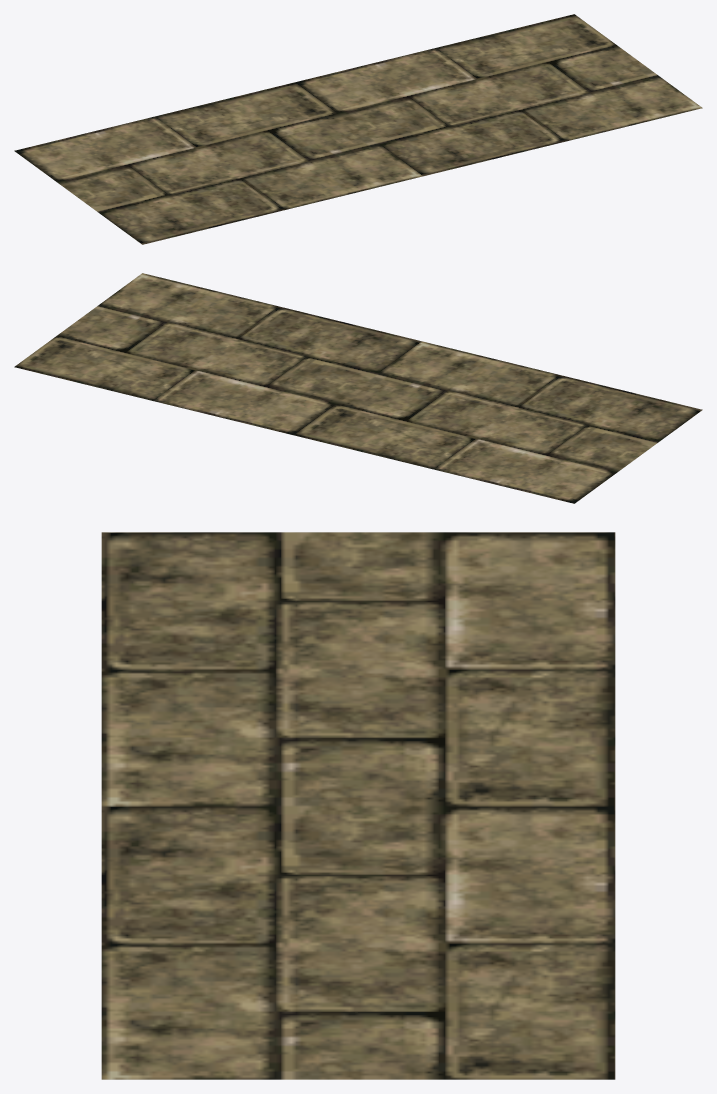
Rendered from OVERHILL_A_01_LINE407.fbx.
3 renders of one model, top to bottom at view 1: azimuth 30°, elevation 25°; view 2: azimuth 150°, elevation 25°; view 3: azimuth 270°, elevation 25°, orthographic. The views are drawn at different scales.
Parts seen in each view (by area): view 1: OVERHILL_A_01_LINE407; view 2: OVERHILL_A_01_LINE407; view 3: OVERHILL_A_01_LINE407.
Part boxes in pixels (left/top/right/bottom): OVERHILL_A_01_LINE407: left=14, top=14, right=702, bottom=244; OVERHILL_A_01_LINE407: left=14, top=273, right=702, bottom=503; OVERHILL_A_01_LINE407: left=101, top=532, right=615, bottom=1079.
Size of the model in its own units: 51147 by 0.00331 by 20305.
Materials: 1 (1 with a texture image).
